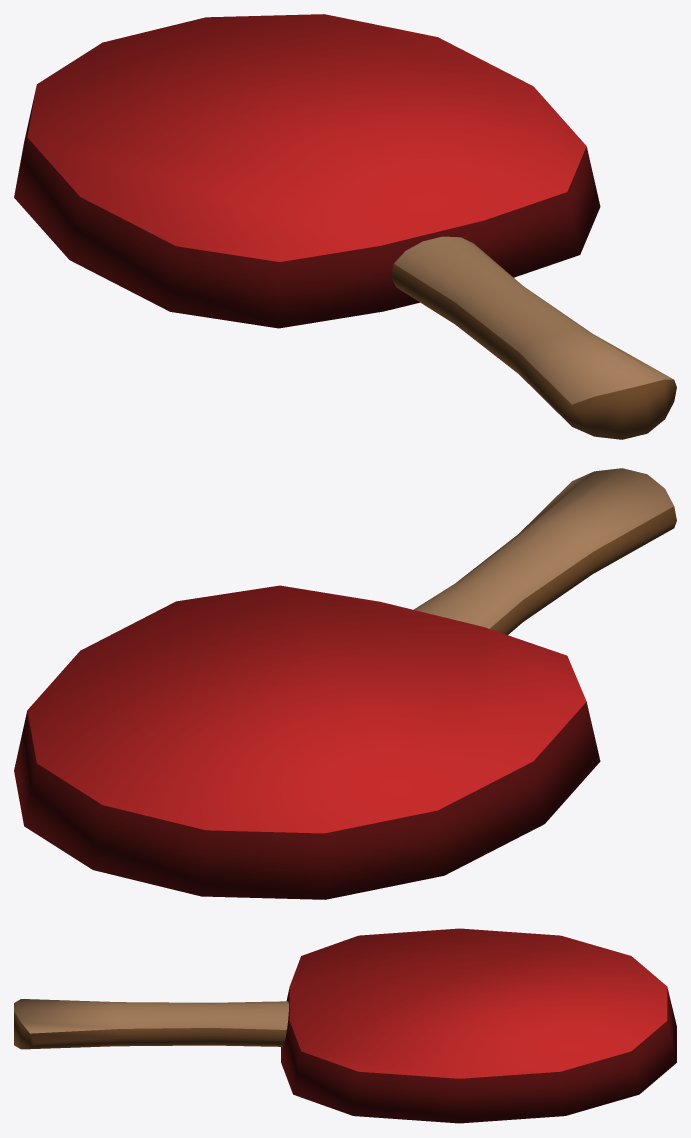
Rendered from LA_RAQUETTE.fbx.
3 renders of one model, top to bottom at view 1: azimuth 30°, elevation 25°; view 2: azimuth 150°, elevation 25°; view 3: azimuth 270°, elevation 25°, orthographic. The views are drawn at different scales.
Visible parts, largest first — view 1: Raquette_001; view 2: Raquette_001; view 3: Raquette_001.
Boxes of the visible parts, x1=… form: Raquette_001: x1=14, y1=14, x2=676, y2=439; Raquette_001: x1=14, y1=468, x2=676, y2=899; Raquette_001: x1=14, y1=928, x2=676, y2=1123.
Bounding box in the file's own units: 9.74 × 1.18 × 17.32.
